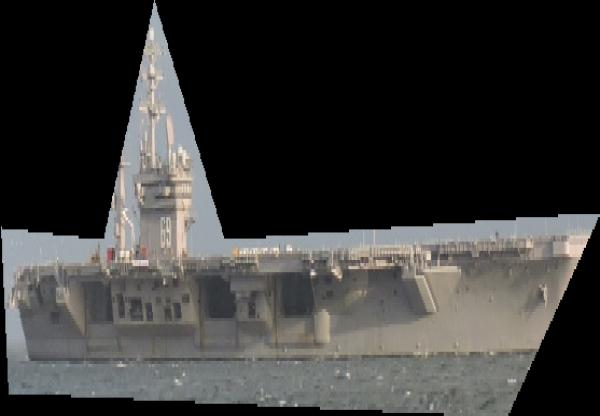Aircraft Carrier: (1, 1, 600, 416)
